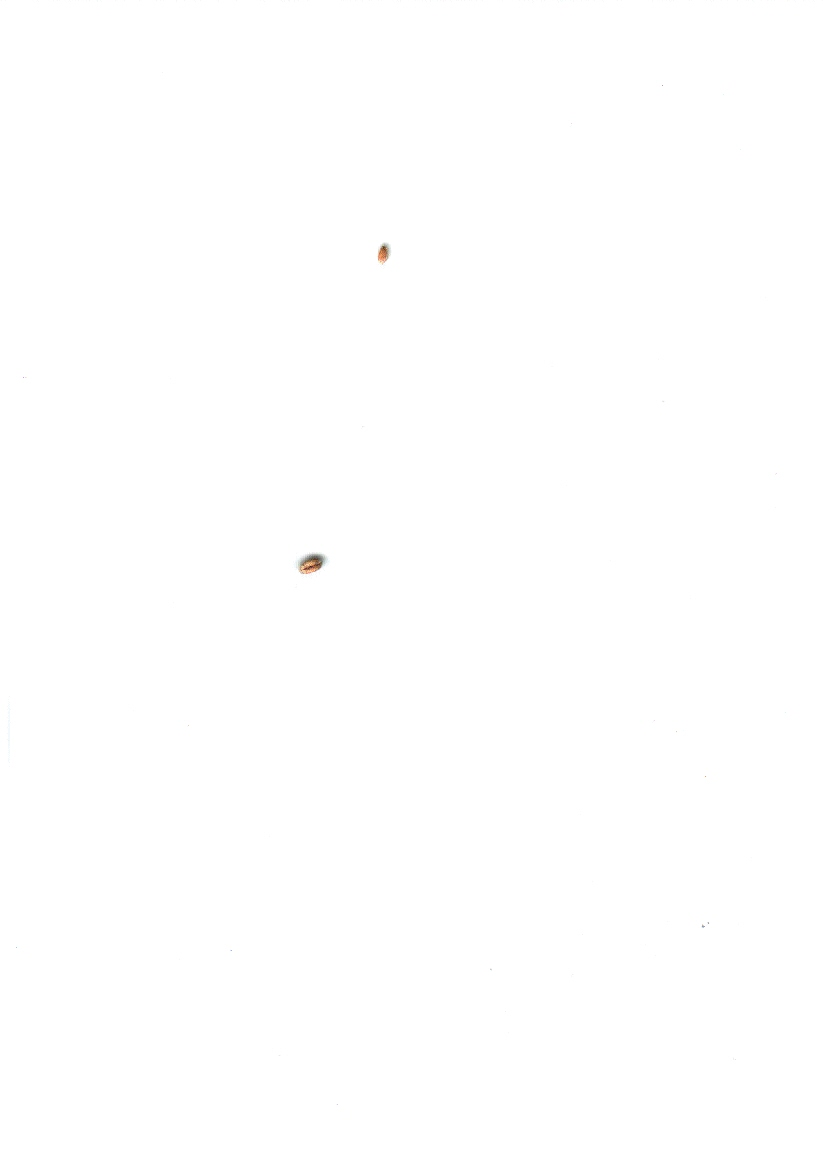grains: (359, 224, 415, 276), (292, 540, 331, 592)
